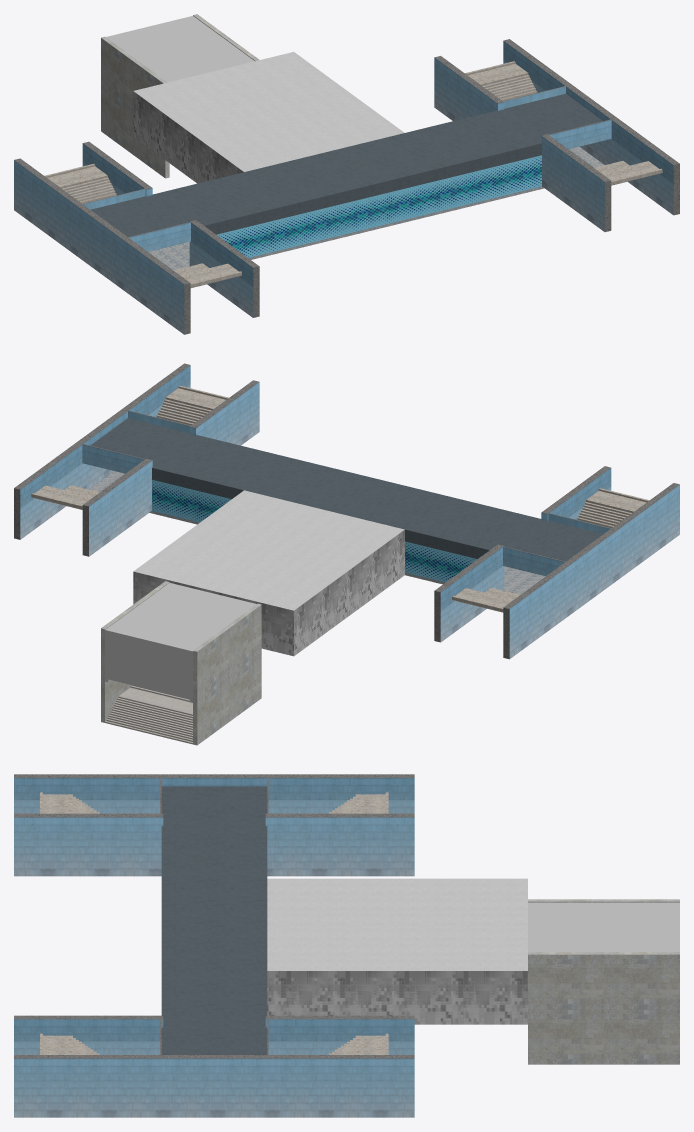
The model's file is Subway01_CorridorInter.FBX.
3 views of the same model, one above another, from view 1: azimuth 30°, elevation 25°; view 2: azimuth 150°, elevation 25°; view 3: azimuth 270°, elevation 25° (orthographic). The views are drawn at different scales.
Parts seen in each view (by area): view 1: Subway01_aStairWall, Subway01_Inter, Subway01_CorridorCeil0102, Subway01_CorridorWall, Subway01_aStair, Subway01StairUp, Subway01_CorridorCeil01, Subway01StairWall01, Subway01_CorridorFloor; view 2: Subway01_aStairWall, Subway01_Inter, Subway01_CorridorCeil0102, Subway01StairUp, Subway01StairWall01, Subway01_aStair, Subway01_CorridorCeil01, Subway01_CorridorWall, Subway01Stair, Subway01_CorridorFloor; view 3: Subway01_aStairWall, Subway01_Inter, Subway01_CorridorCeil0102, Subway01StairWall01, Subway01StairUp, Subway01_CorridorCeil01, Subway01_aStair.
Part boxes in pixels (bbox=[...]): Subway01_aStairWall: bbox=[14, 39, 679, 334]; Subway01_Inter: bbox=[133, 52, 404, 183]; Subway01_CorridorCeil0102: bbox=[152, 110, 541, 234]; Subway01_CorridorWall: bbox=[217, 155, 541, 257]; Subway01_aStair: bbox=[44, 61, 662, 287]; Subway01StairUp: bbox=[106, 16, 254, 82]; Subway01_CorridorCeil01: bbox=[91, 93, 603, 236]; Subway01StairWall01: bbox=[101, 14, 259, 178]; Subway01_CorridorFloor: bbox=[148, 146, 604, 270]; Subway01_aStairWall: bbox=[14, 363, 679, 659]; Subway01_Inter: bbox=[133, 490, 404, 656]; Subway01_CorridorCeil0102: bbox=[152, 435, 541, 558]; Subway01StairUp: bbox=[105, 583, 256, 702]; Subway01StairWall01: bbox=[101, 581, 261, 745]; Subway01_aStair: bbox=[31, 385, 649, 612]; Subway01_CorridorCeil01: bbox=[91, 418, 603, 561]; Subway01_CorridorWall: bbox=[152, 479, 477, 582]; Subway01Stair: bbox=[105, 685, 192, 744]; Subway01_CorridorFloor: bbox=[89, 471, 545, 594]; Subway01_aStairWall: bbox=[14, 774, 414, 1117]; Subway01_Inter: bbox=[267, 878, 527, 1024]; Subway01_CorridorCeil0102: bbox=[161, 825, 267, 1023]; Subway01StairWall01: bbox=[528, 899, 679, 1064]; Subway01StairUp: bbox=[528, 902, 679, 951]; Subway01_CorridorCeil01: bbox=[161, 786, 267, 1054]; Subway01_aStair: bbox=[40, 792, 388, 1054].
Bounding box in the file's own units: 78938 × 15616 × 78106.
